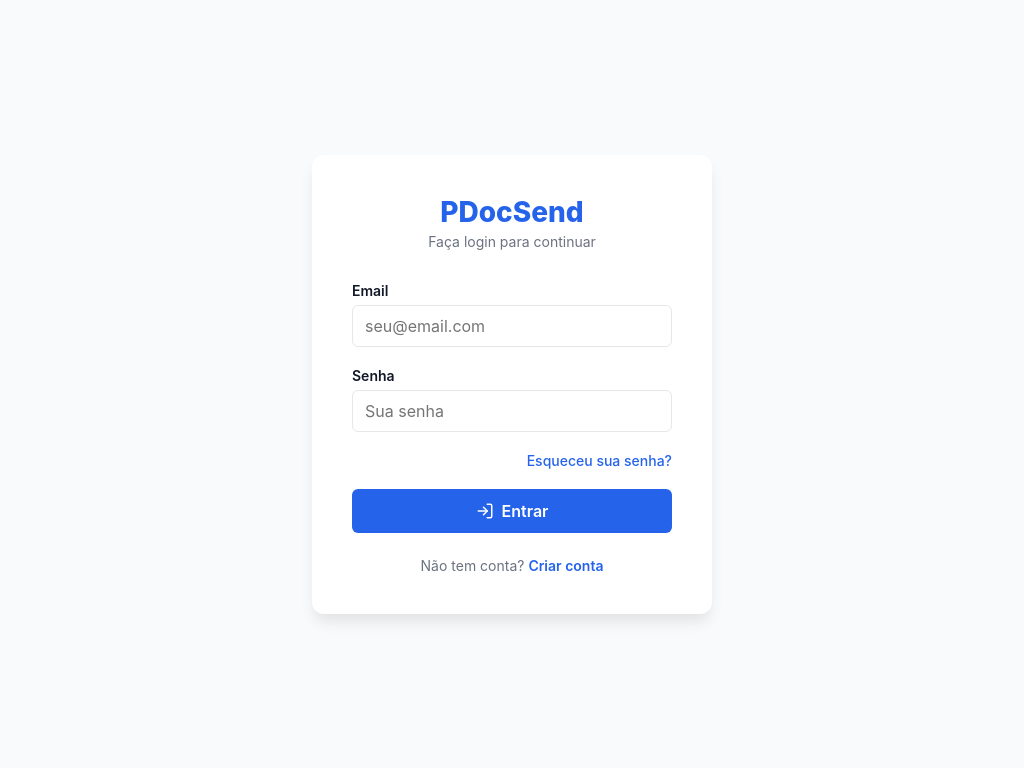
it: Login › deve mostrar loading ao submeter login
Type "test@test.com" into the field with placeholder "seu@email.com" at coordinates (512, 326), box [352,304,672,346]
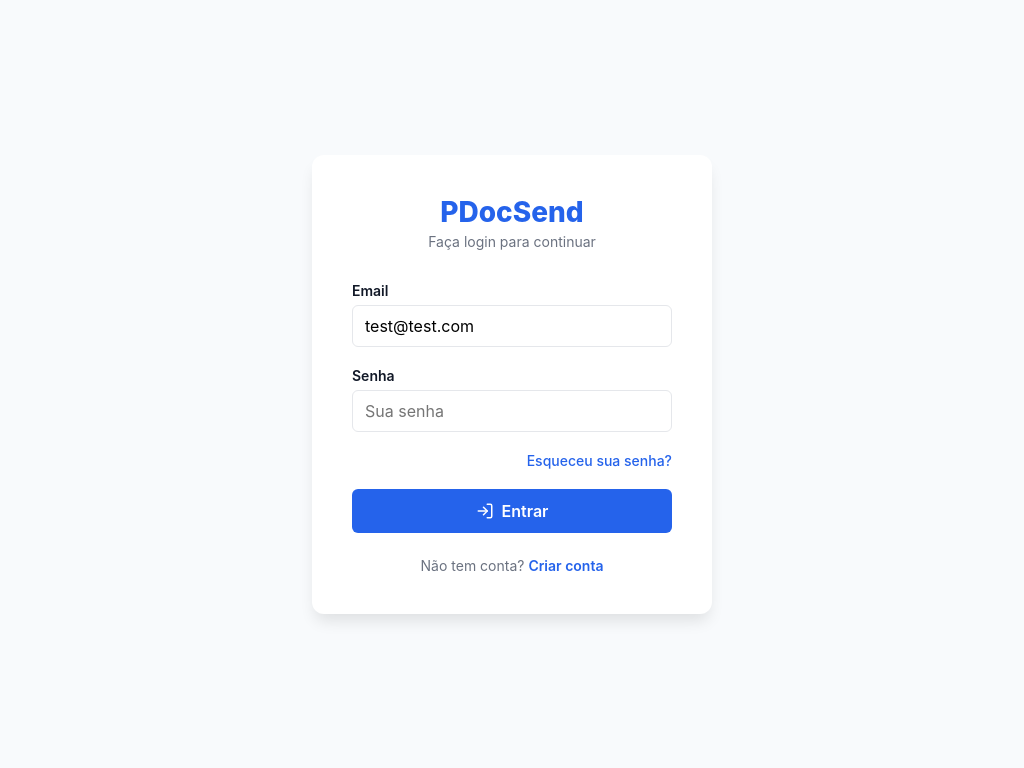
Type "123456" into the password field with placeholder "Sua senha" at coordinates (512, 410), box [352,390,672,432]
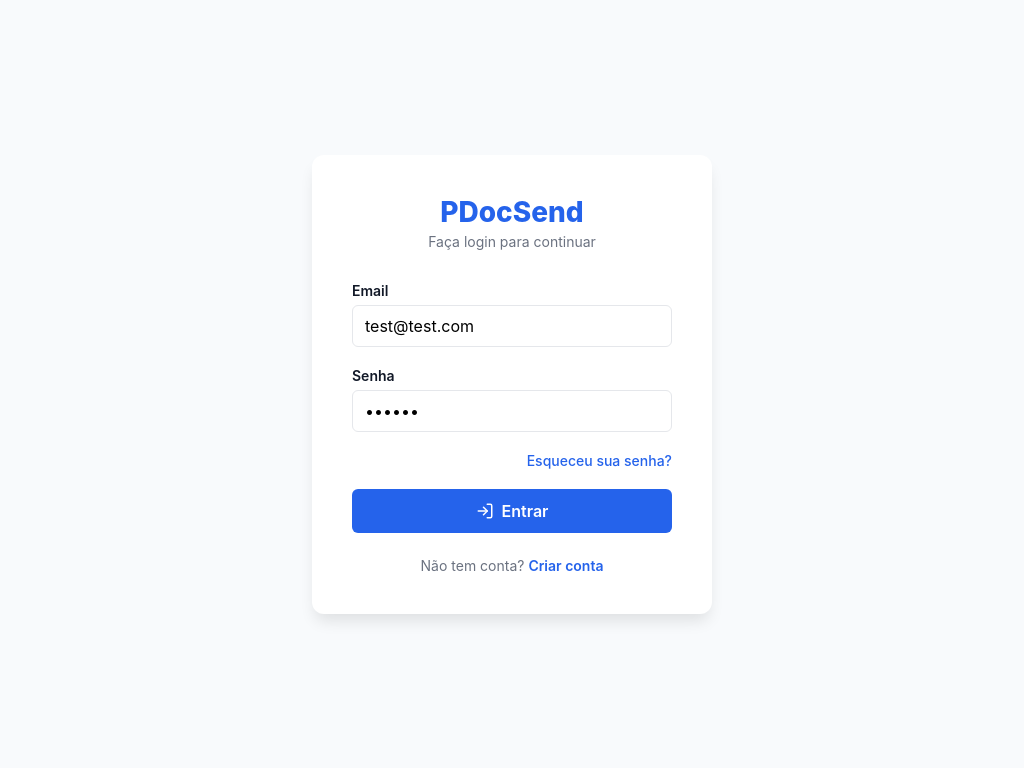
Click the button "Entrar" at coordinates (512, 510), box [352,488,672,532]
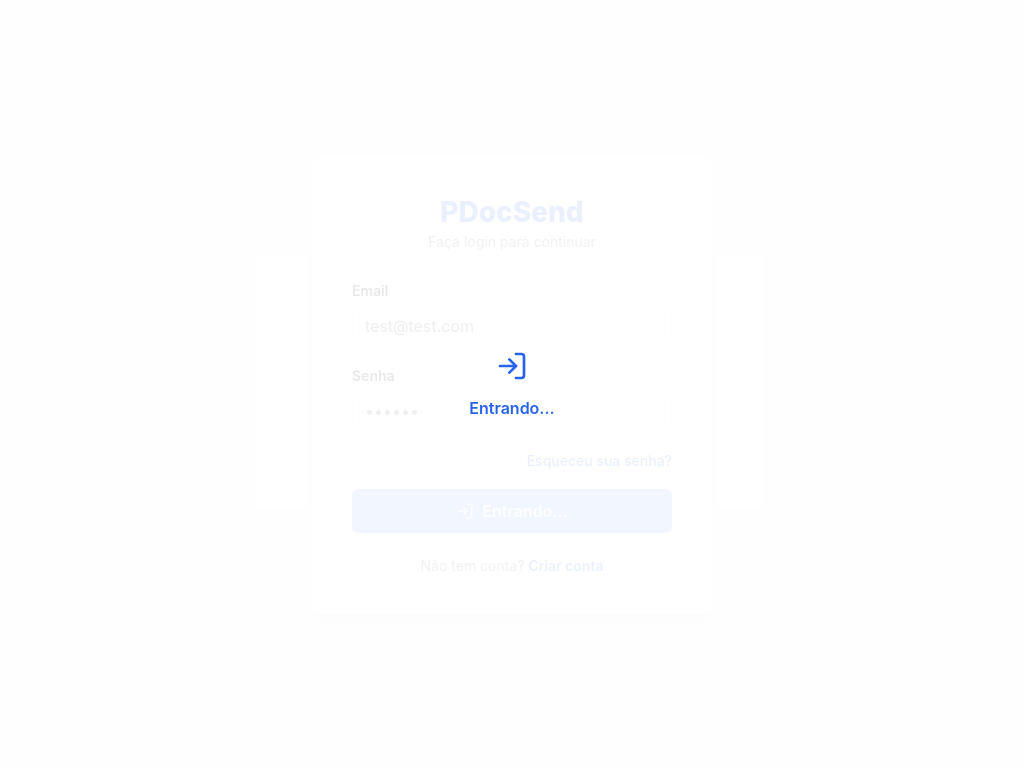
expect the text "Entrando..." is shown: met, box [469,398,555,418]
